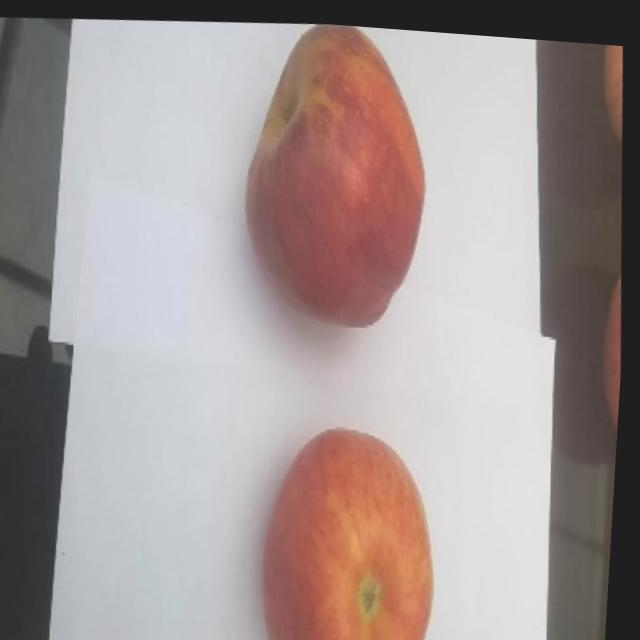Apple: (232, 14, 443, 332), (256, 411, 453, 640)
